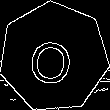O_N: (29, 28, 80, 86)
